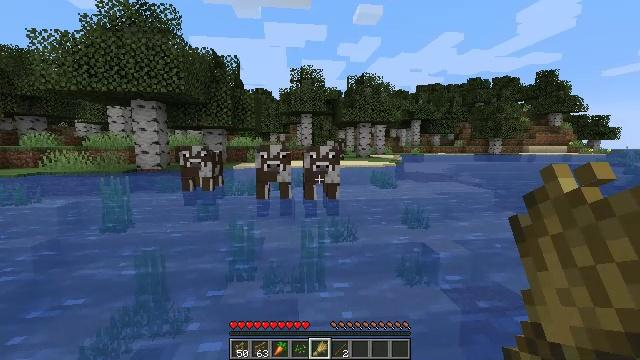cow: (300, 147, 341, 199), (255, 146, 291, 199), (180, 147, 223, 190)
